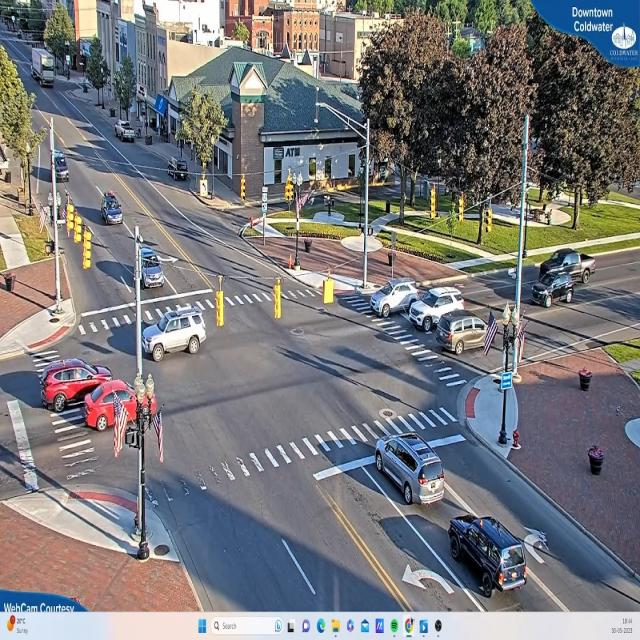car: (449, 514, 532, 594), (373, 433, 445, 505), (142, 307, 207, 362), (41, 364, 115, 412), (84, 376, 140, 432), (408, 289, 466, 332), (540, 248, 598, 283), (438, 314, 488, 352), (372, 282, 422, 319), (529, 271, 575, 307), (143, 243, 166, 289), (104, 194, 125, 224), (117, 121, 138, 143)
truck: (32, 46, 58, 86)
